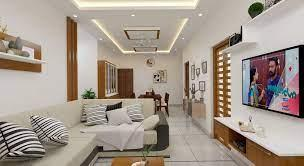TV: (238, 46, 299, 116)
chair: (156, 90, 172, 114)
console: (209, 117, 304, 166)
light: (71, 11, 80, 23), (97, 35, 105, 48), (172, 46, 181, 55), (108, 47, 117, 56), (179, 36, 186, 43), (127, 14, 138, 17), (199, 11, 202, 21)
sofa: (1, 95, 173, 166)
table: (102, 154, 167, 166), (138, 94, 164, 111)
